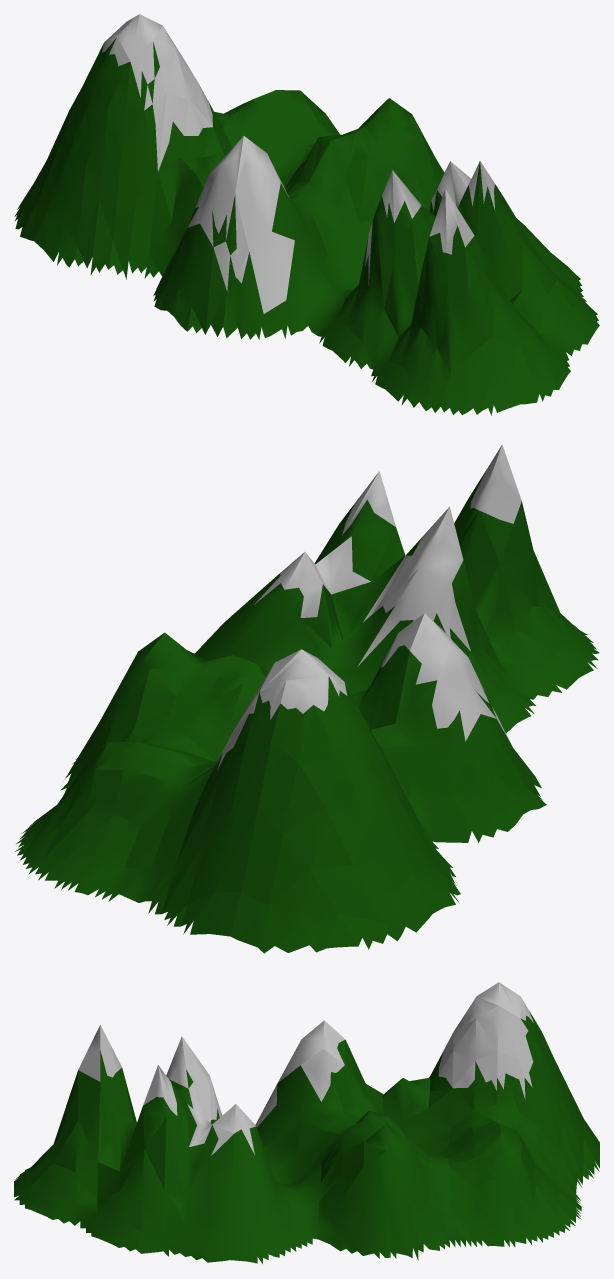
File: mountain.bx.fbx
3 renders of one model, top to bottom at view 1: azimuth 30°, elevation 25°; view 2: azimuth 150°, elevation 25°; view 3: azimuth 270°, elevation 25°, orthographic. The views are drawn at different scales.
Visible parts, largest first — view 1: mountain; view 2: mountain; view 3: mountain.
Part boxes in pixels (x1,y1,x2,y2): mountain: (14,14,599,415); mountain: (15,445,599,953); mountain: (14,982,599,1263).
Bounding box in the file's own units: 3000 × 1601 × 4822.
